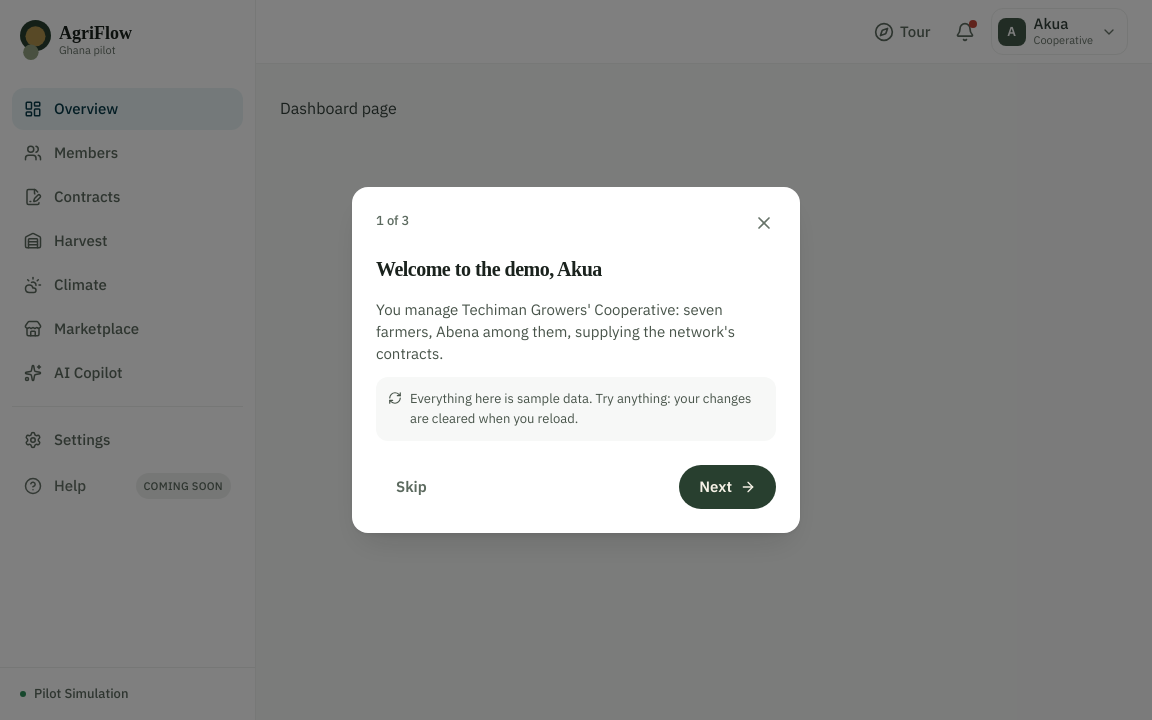
Test: the demo tour › opens the first time a role is explored, in that role's words
expect the dialog "Welcome to the demo, Akua" shows "Techiman Growers' Cooperative": met, box [376,300,735,363]
Click the button "Next" at (728, 487), box [679,465,776,509]
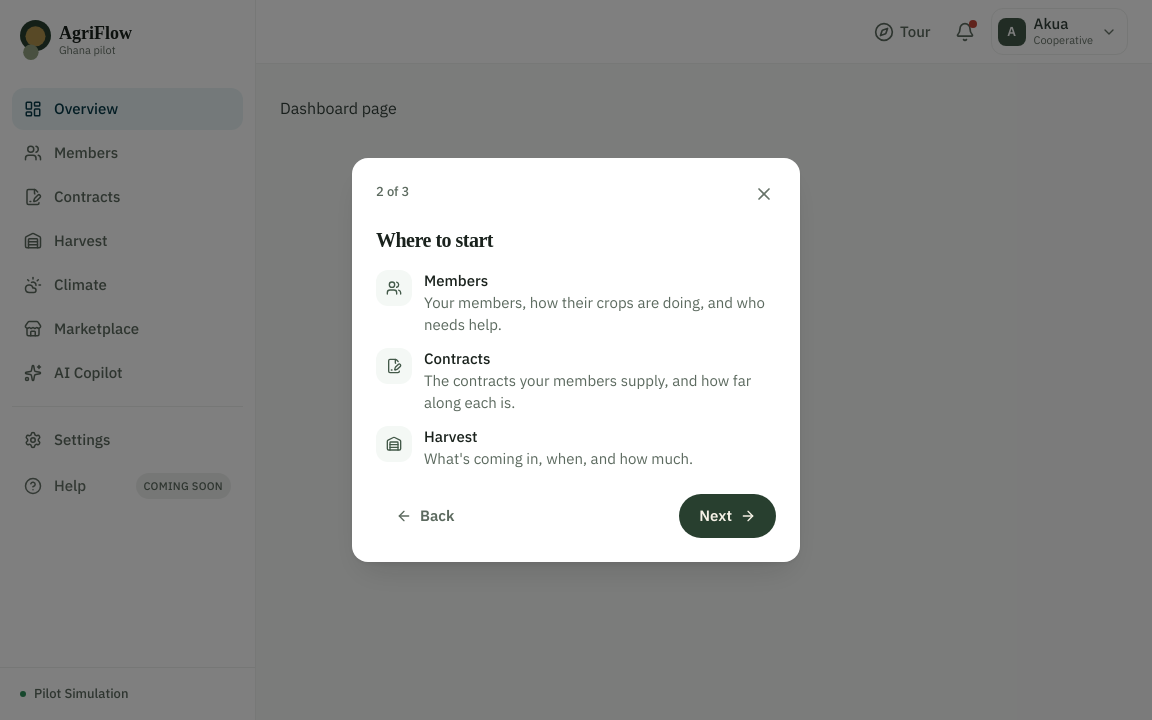
expect the dialog named "Welcome to the demo, Akua" shows "Members": met, box [424,271,488,290]
expect the dialog named "Welcome to the demo, Akua" shows "who needs help": met, box [424,293,765,334]
Click the button "Next" at (728, 516), box [679,494,776,538]
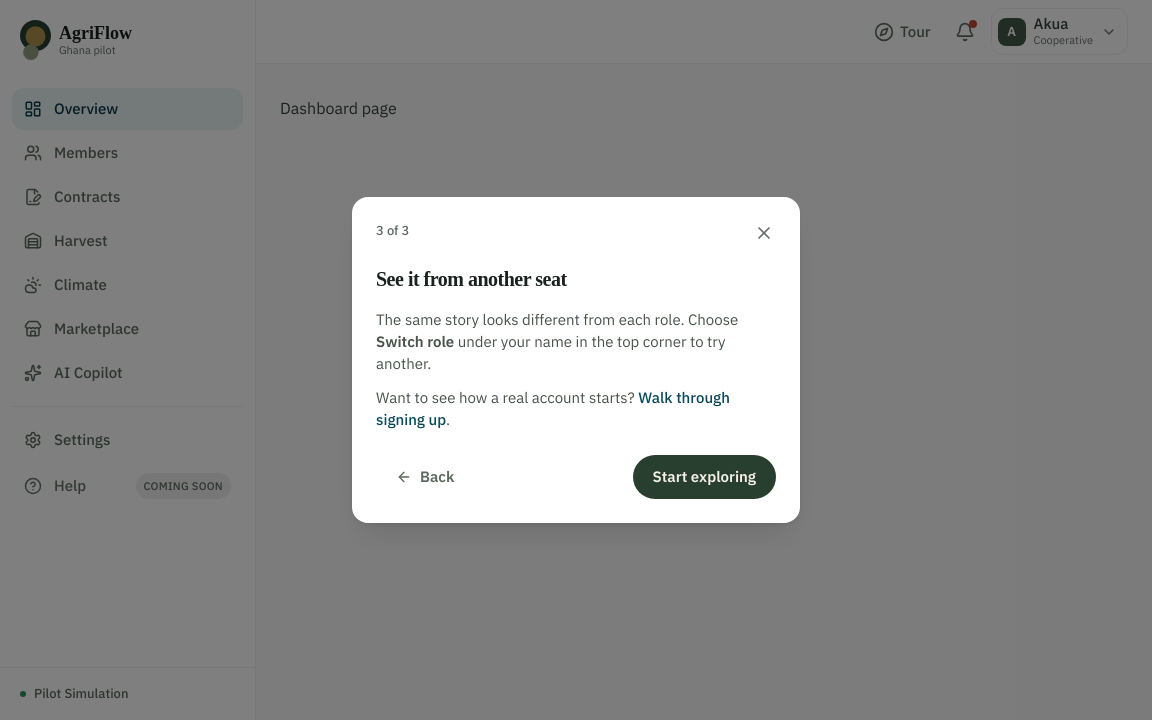
Click the button "Start exploring" at (704, 477), box [633,455,776,499]
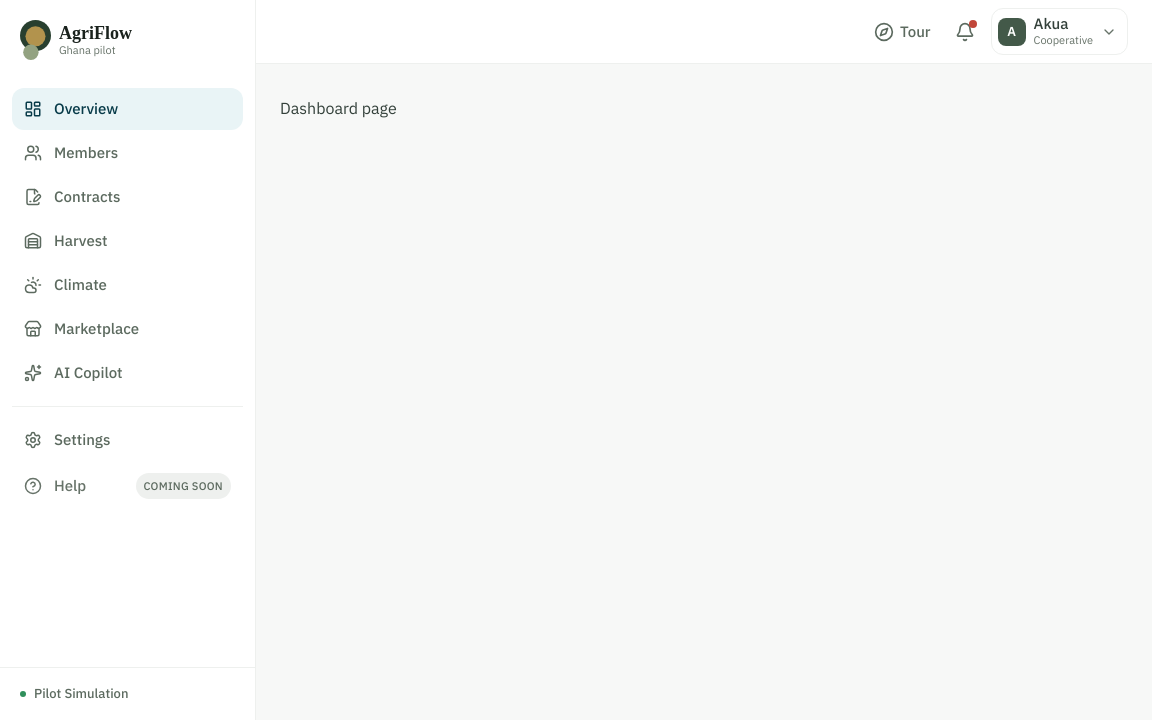
expect the dialog is gone: met
